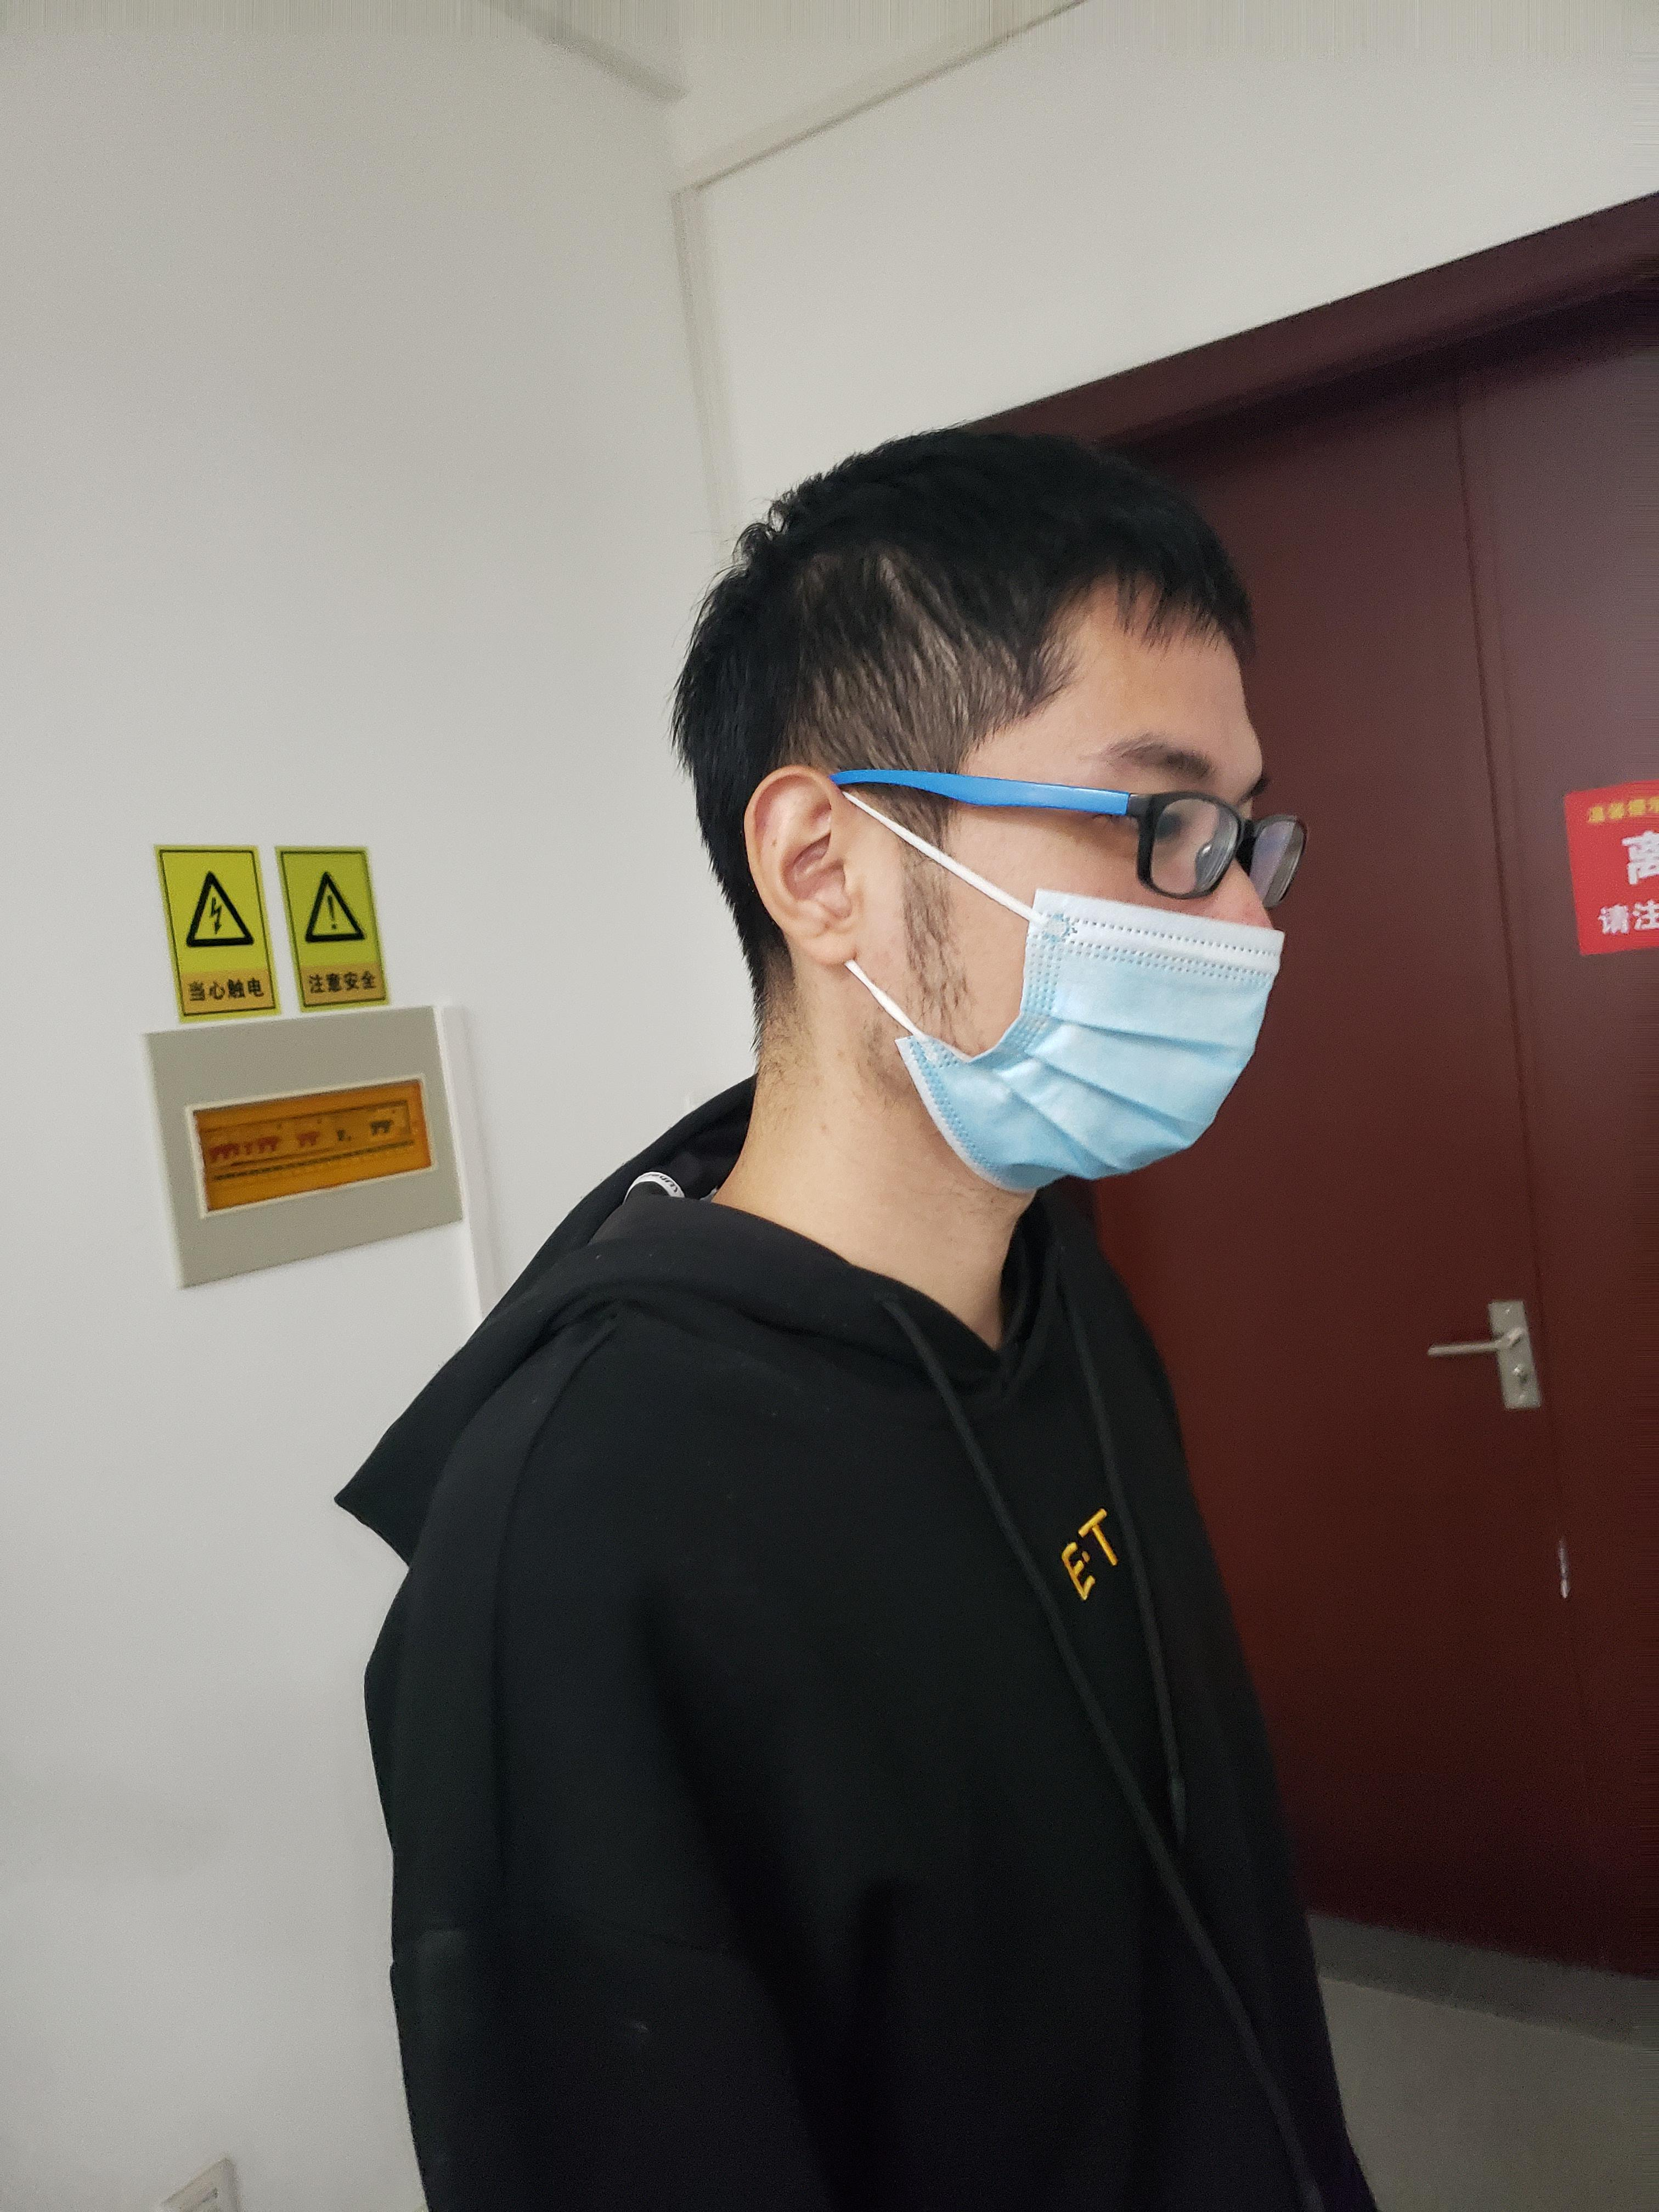Mask: (824, 779, 1288, 1207)
